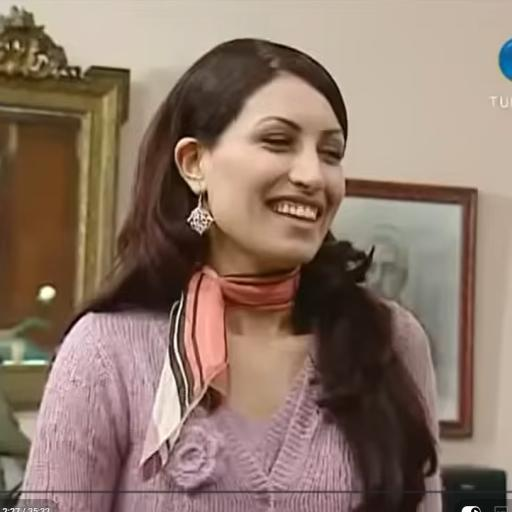Dalanda: (175, 73, 345, 274)
